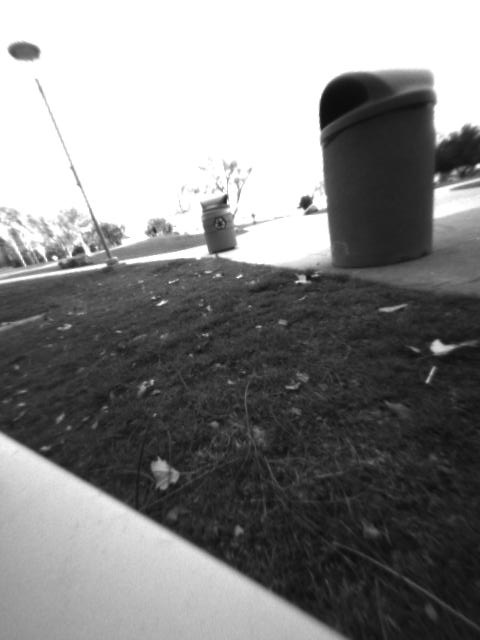trashcan: (318, 67, 437, 262)
